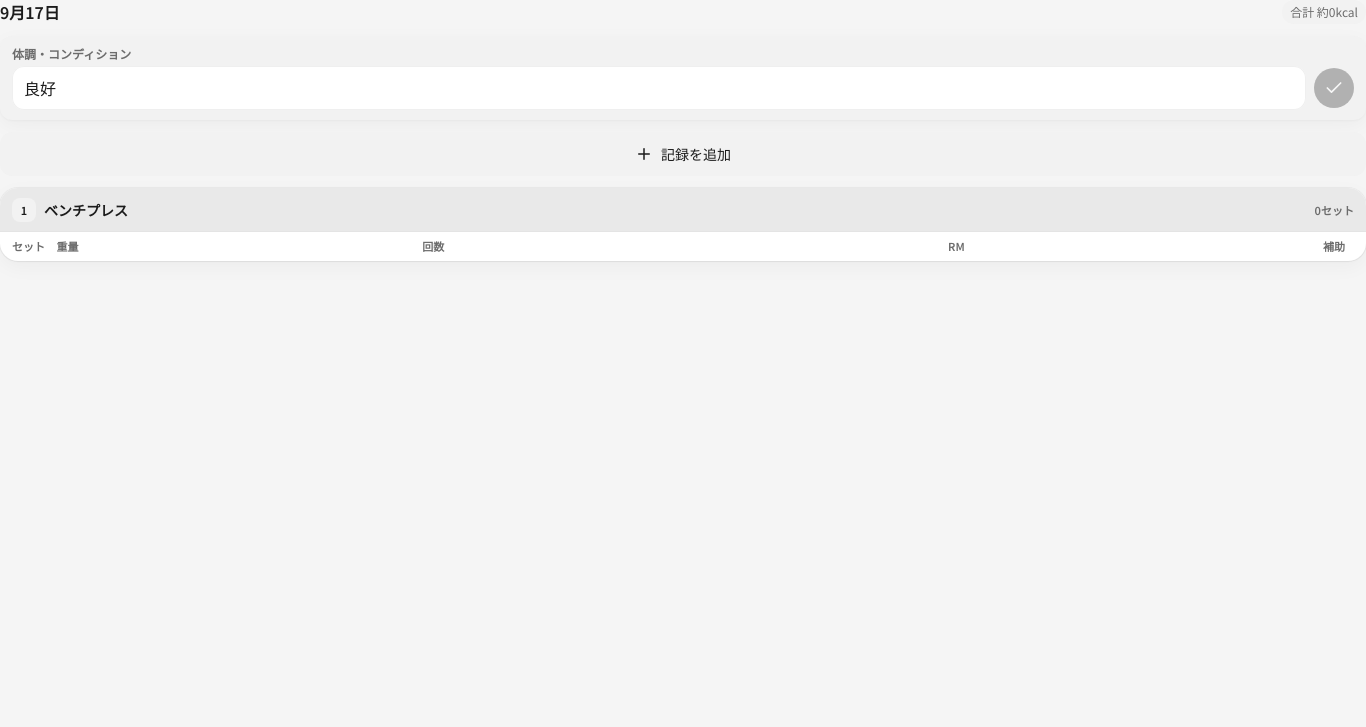
it: inline workout creation › does not present a successful save as failed when only refreshing the list fails
Expected: the heading "1 ベンチプレス" is shown, [12,198,128,222]
Click the button "記録を追加": (683, 154) [0,132,1365,176]
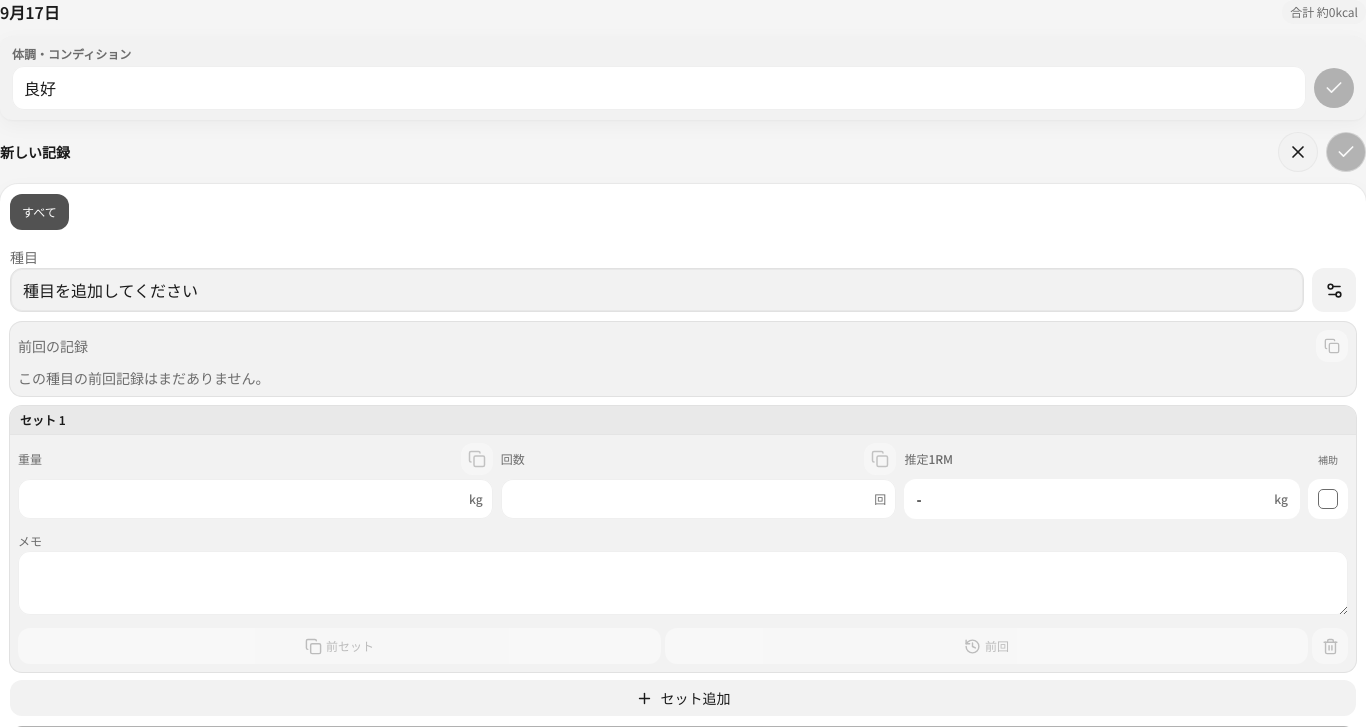
Select "ベンチプレス" in the dropdown: (657, 290) [10,268,1304,312]
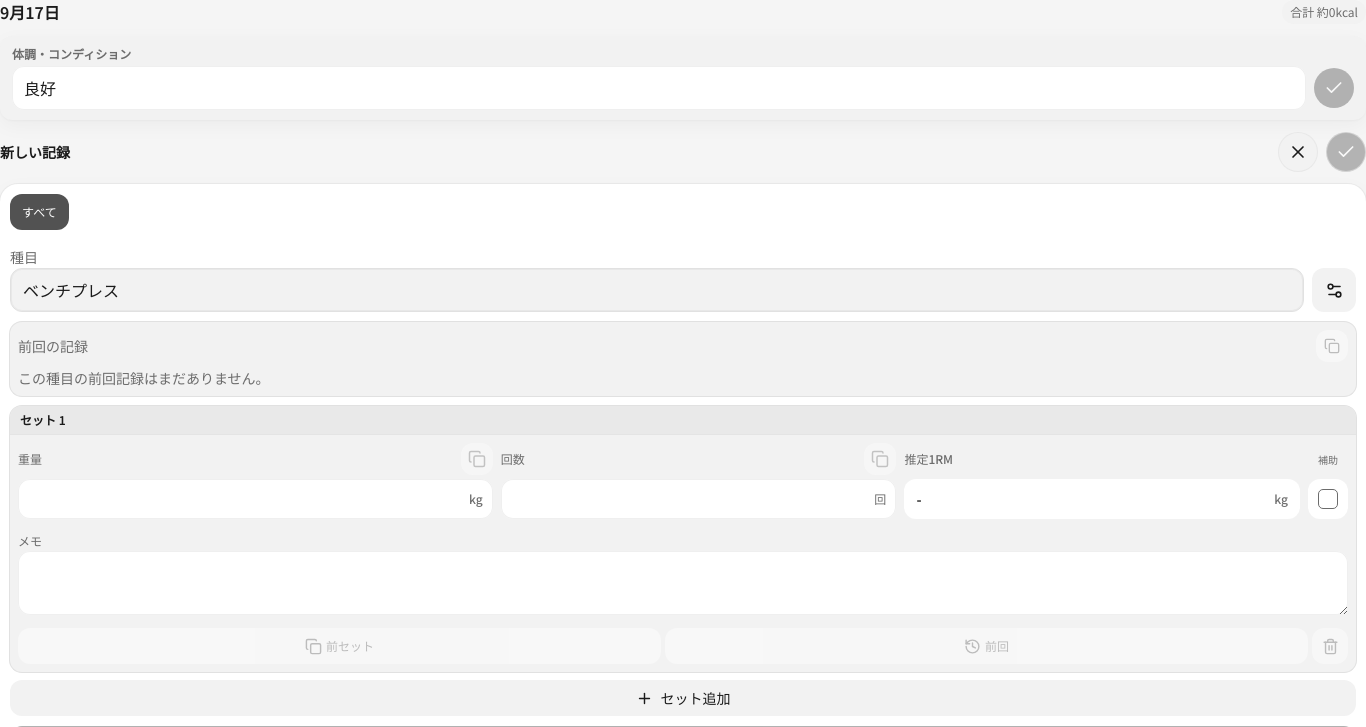
In the field named "セット1の重量": (255, 499) [18,479,493,519], type "20"
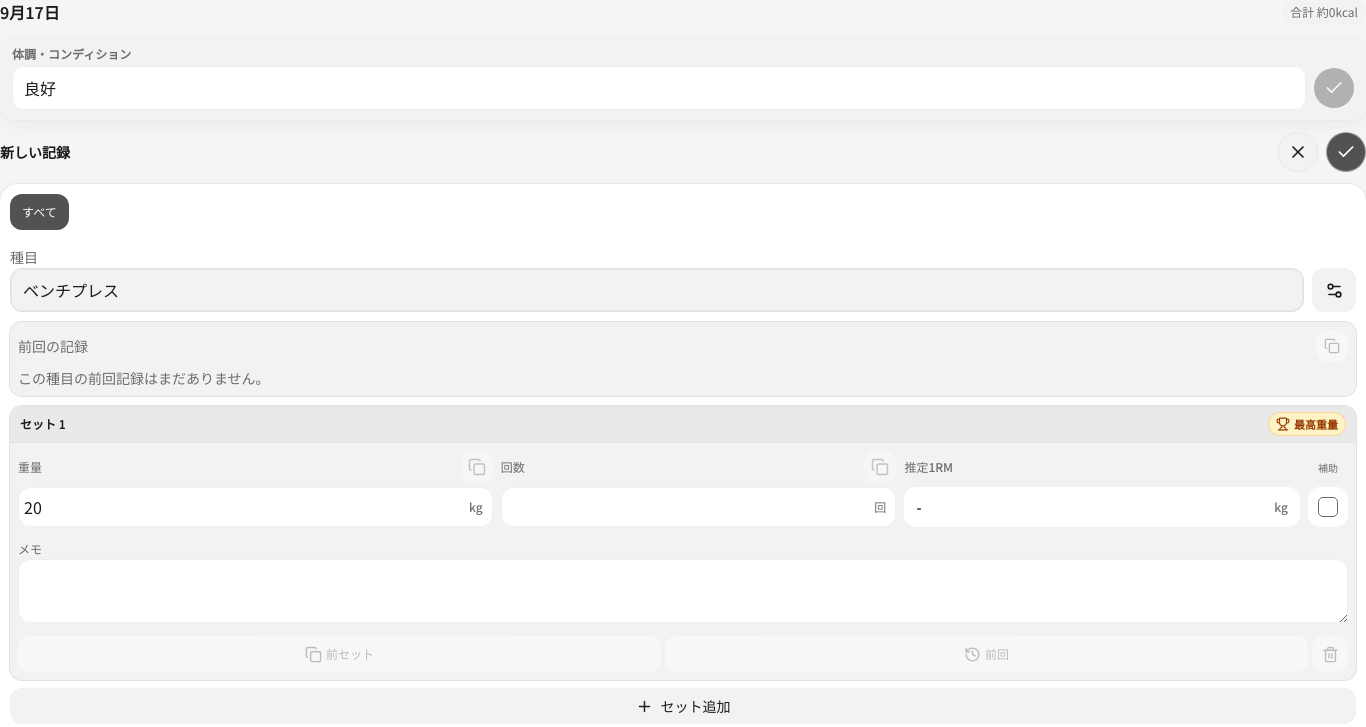
In the field named "セット1の回数": (699, 507) [501,487,896,527], type "10"
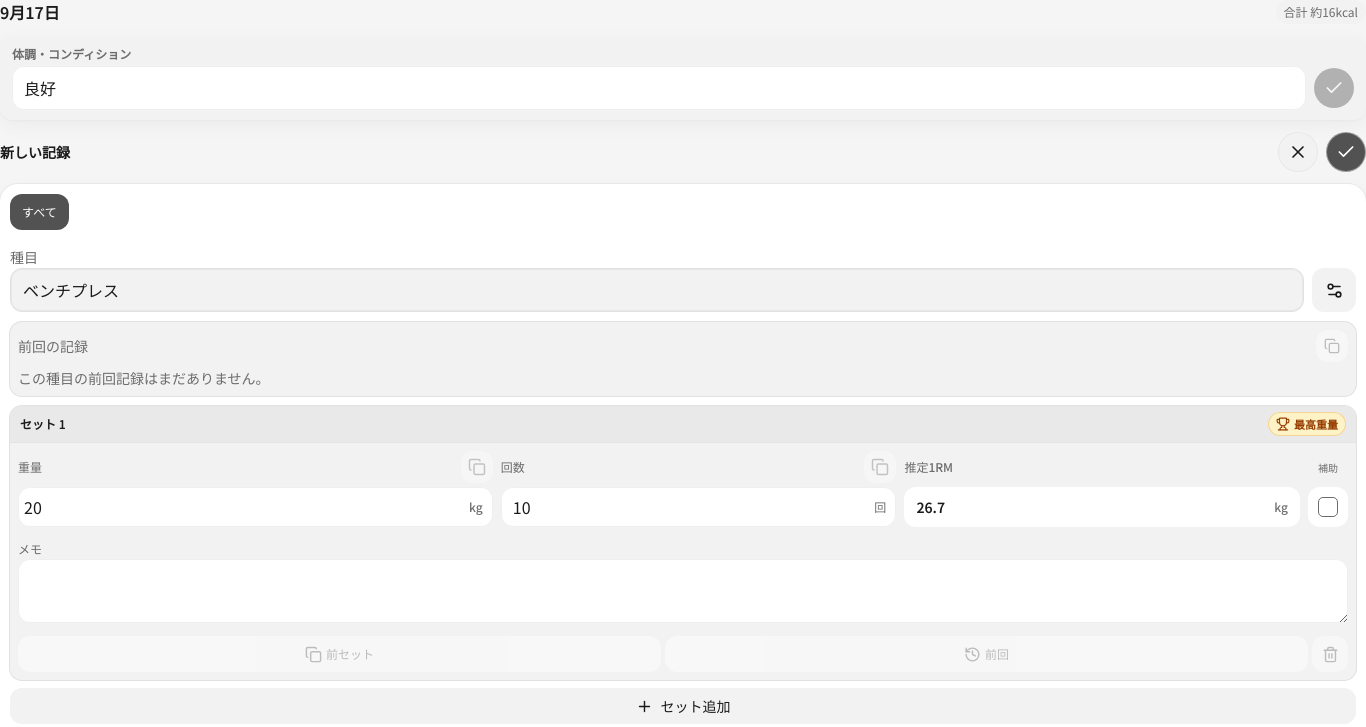
Click the button named "記録を保存": (1346, 152) [1326,132,1365,172]
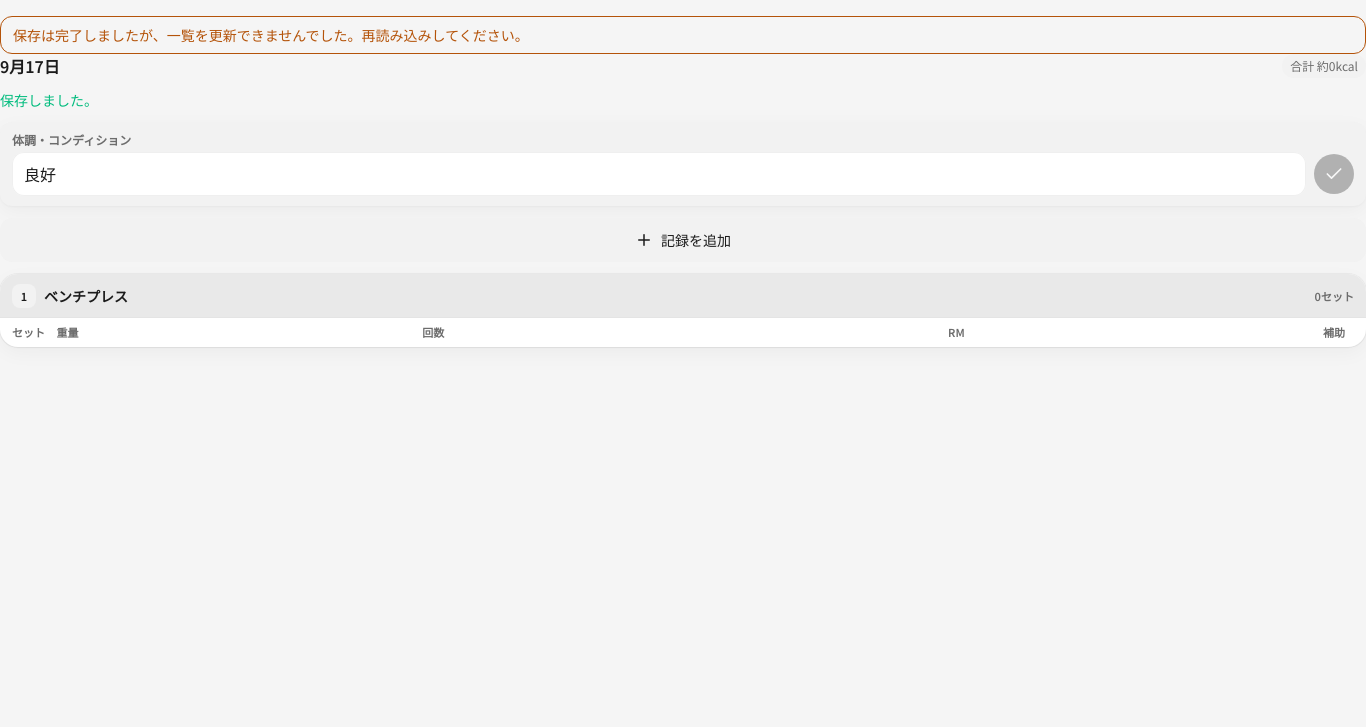
Result: the text "保存は完了しましたが、一覧を更新できませんでした。再読み込みしてください。" is shown at [0,16,1365,54]
Result: the dropdown is gone
